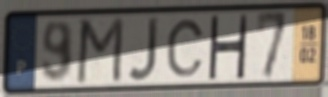7: (255, 9, 288, 83)
9: (40, 18, 74, 85)
C: (164, 17, 206, 79)
H: (206, 13, 250, 81)
J: (125, 15, 161, 84)
M: (73, 15, 126, 86)
